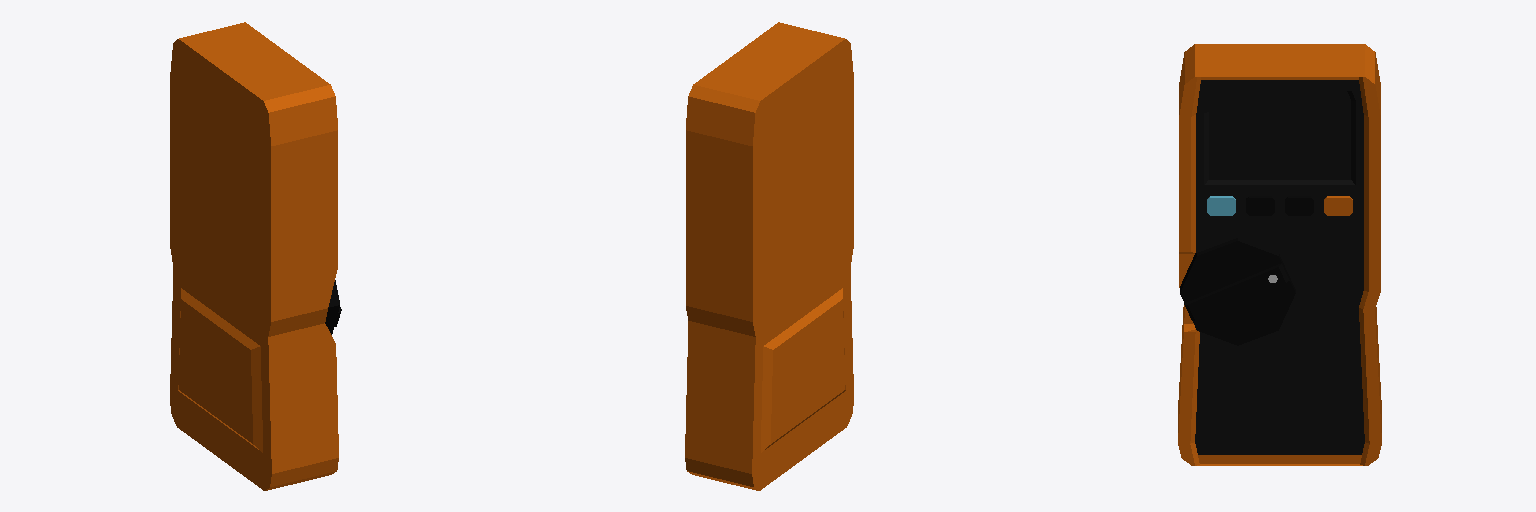
Rendered from Multimeter.obj.
3 renders of one model, left to right at view 1: azimuth 30°, elevation 25°; view 2: azimuth 150°, elevation 25°; view 3: azimuth 270°, elevation 25°, orthographic.
Parts seen in each view (by area): view 1: Multmeter_Cube; view 2: Multmeter_Cube; view 3: Multmeter_Cube.
Part boxes in pixels (x1,y1,x2,y2): Multmeter_Cube: (170,22,341,490); Multmeter_Cube: (685,22,853,490); Multmeter_Cube: (1178,44,1381,465).
Bounding box in the file's own units: 0.1951 × 0.9057 × 0.4303.